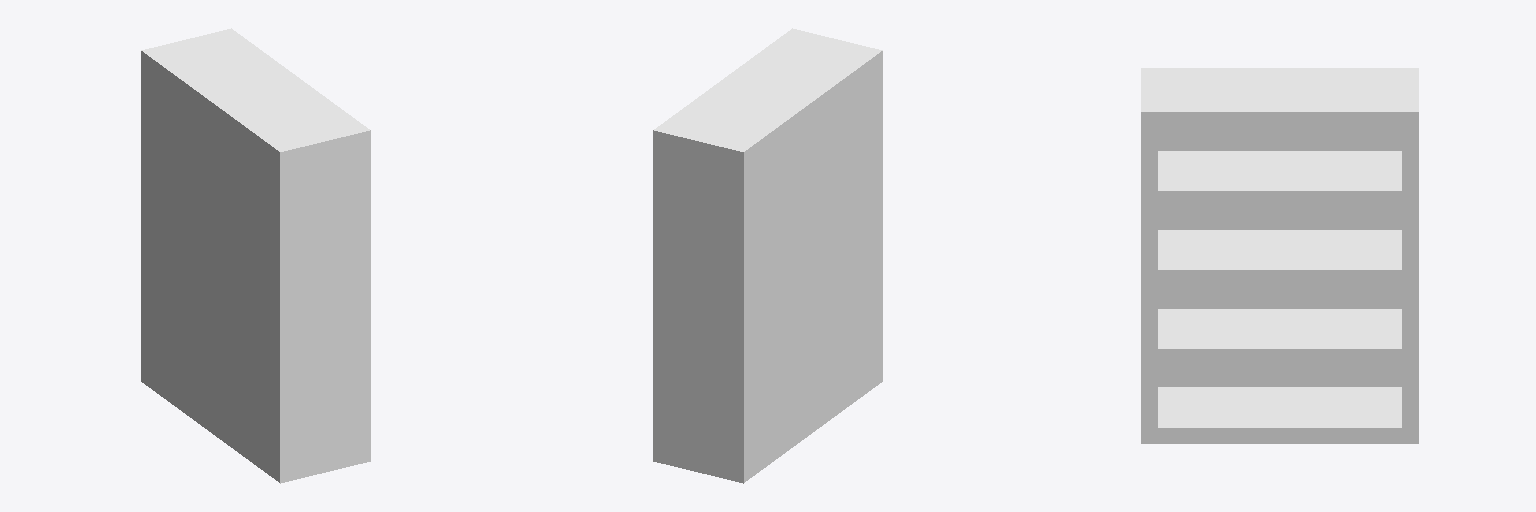
File: kaappi.obj
3 views of the same model, side by side, from view 1: azimuth 30°, elevation 25°; view 2: azimuth 150°, elevation 25°; view 3: azimuth 270°, elevation 25° (orthographic).
Bounding box in the file's own units: 12 × 42 × 32.